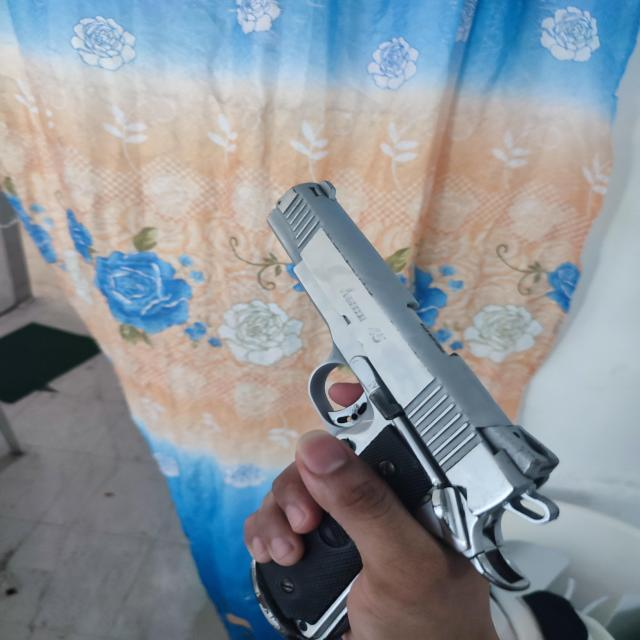pistol: (268, 181, 560, 590)
